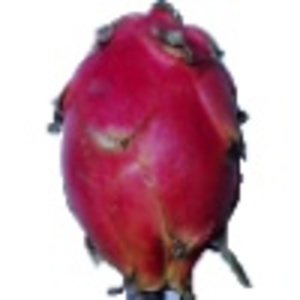pitaia: (48, 1, 254, 300)
